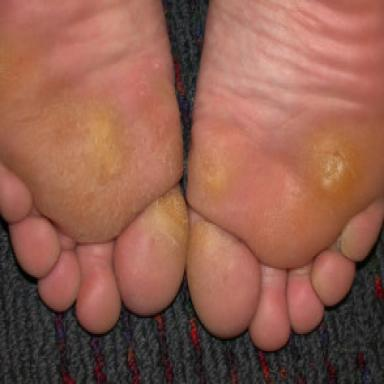eczema: (0, 32, 189, 270), (187, 127, 384, 286)
